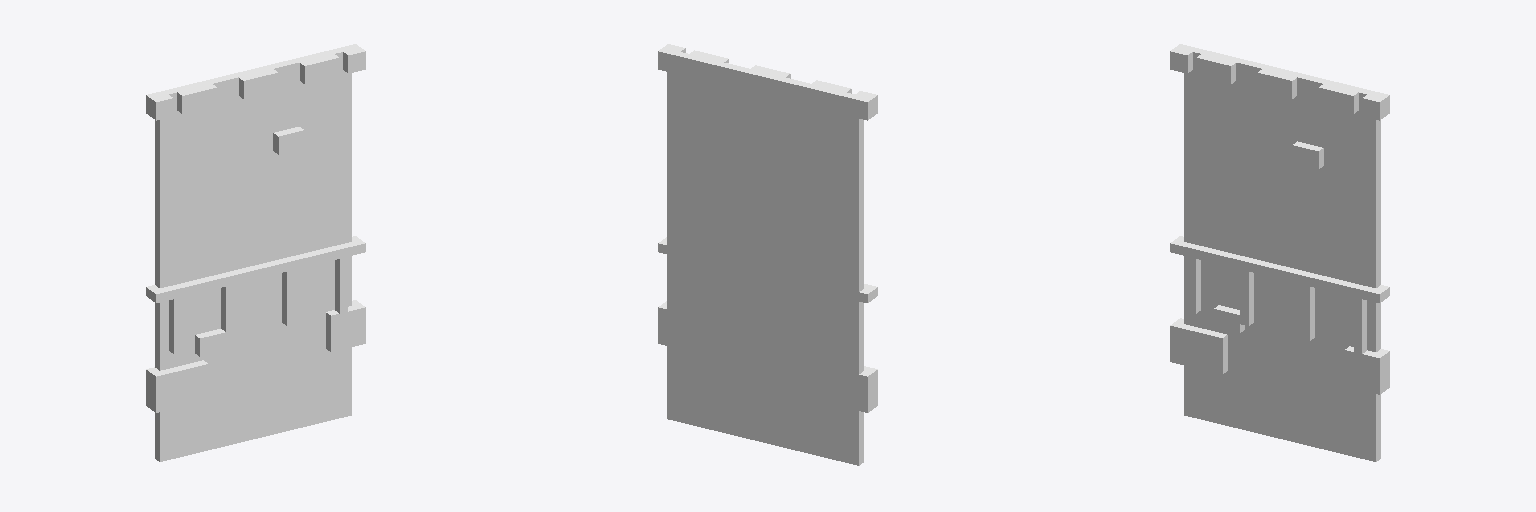
Rendered from TallBuilding02-7.obj.
3 renders of one model, left to right at view 1: azimuth 30°, elevation 25°; view 2: azimuth 150°, elevation 25°; view 3: azimuth 330°, elevation 25°, orthographic.
Visible parts, largest first — view 1: object 1; view 2: object 1; view 3: object 1.
Part boxes in pixels (left/top/right/bottom): object 1: left=146, top=44, right=365, bottom=461; object 1: left=658, top=44, right=877, bottom=465; object 1: left=1170, top=44, right=1389, bottom=461.
Bounding box in the file's own units: 2.4 × 4 × 0.2.